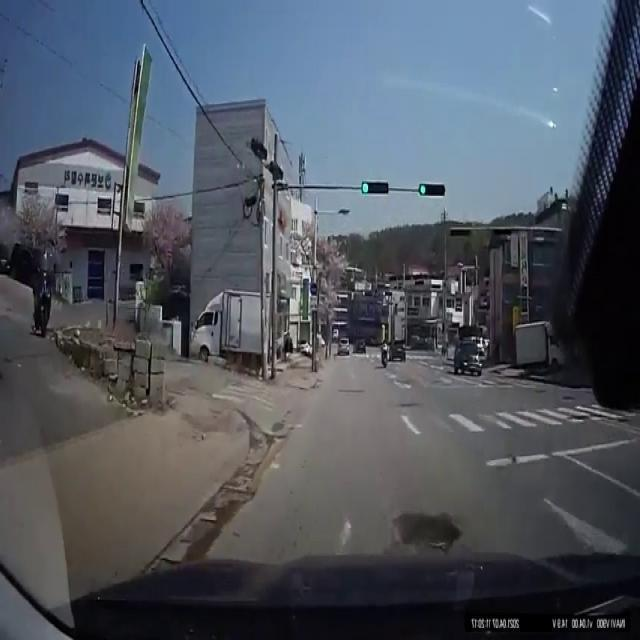pothole: (391, 504, 460, 554)
